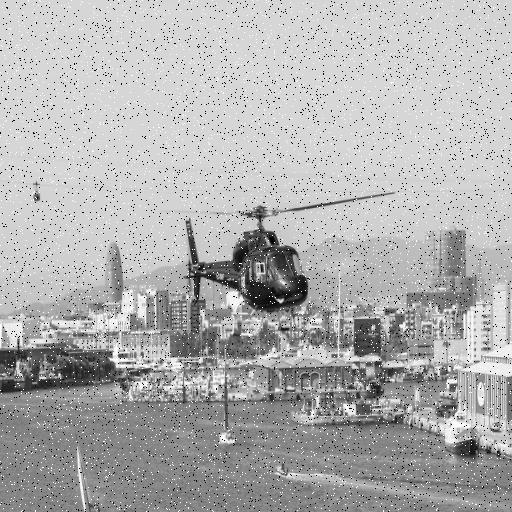helicopter: (167, 193, 398, 334)
